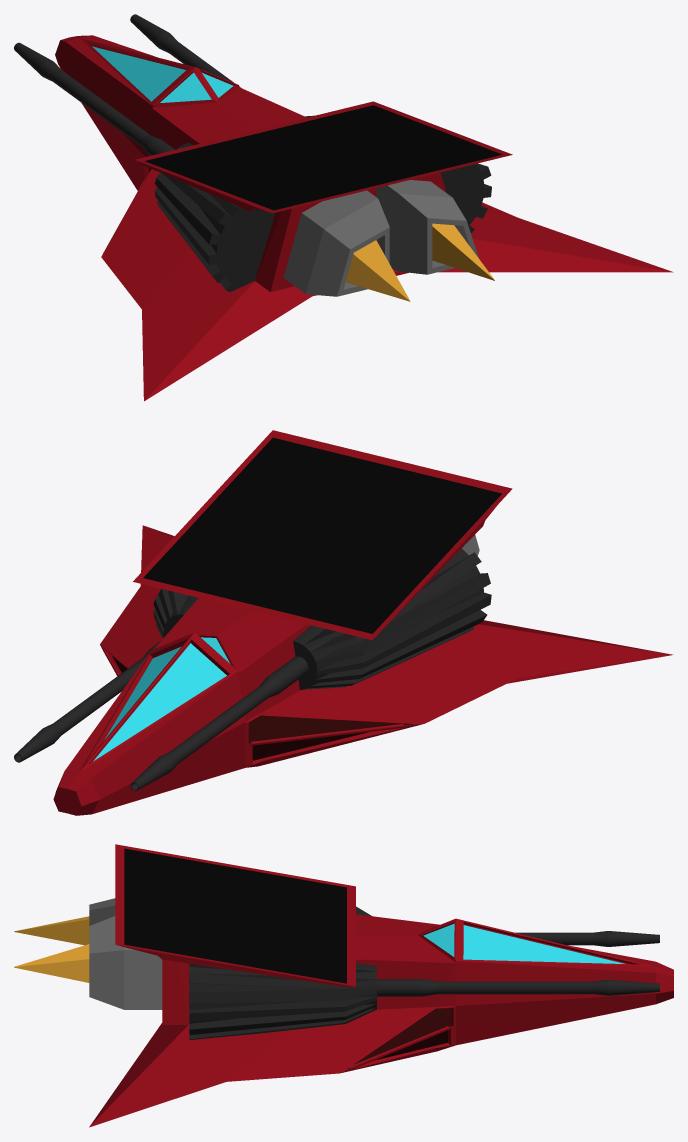
Rendered from Nave_enemigo_lasers.fbx.
The picture shows the model from 3 angles, top to bottom: view 1: azimuth 30°, elevation 25°; view 2: azimuth 150°, elevation 25°; view 3: azimuth 270°, elevation 25°; orthographic projection. The views are drawn at different scales.
Visible parts, largest first — view 1: Cube, Cylinder; view 2: Cube, Cylinder; view 3: Cube, Cylinder.
Boxes of the visible parts, x1,y1,x2,y2 form: Cube: (55,35,673,401); Cylinder: (14,14,240,155); Cube: (53,430,673,815); Cylinder: (14,641,308,790); Cube: (14,844,673,1127); Cylinder: (377,931,659,996).
Bounding box in the file's own units: 2.26 × 0.6391 × 2.84.
